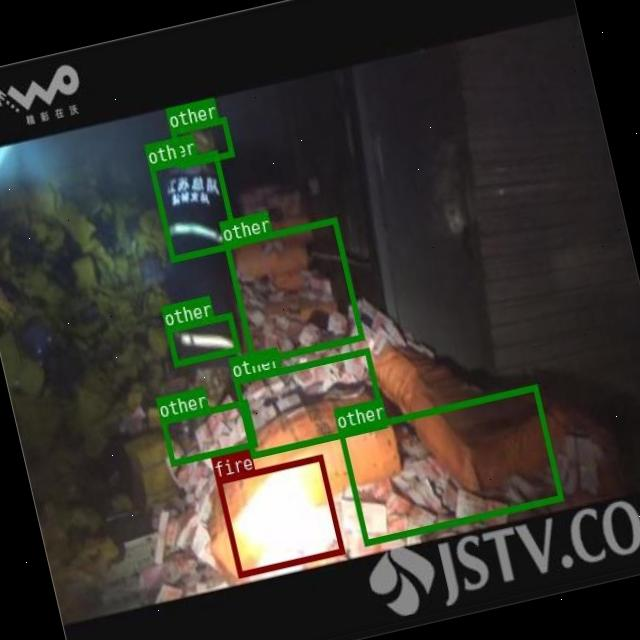fire: (215, 453, 344, 577)
